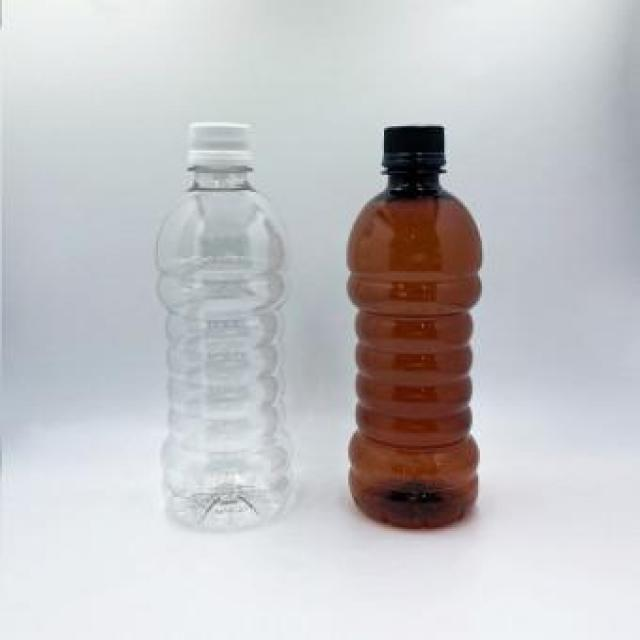bottle: (132, 99, 314, 561), (331, 99, 498, 564)
